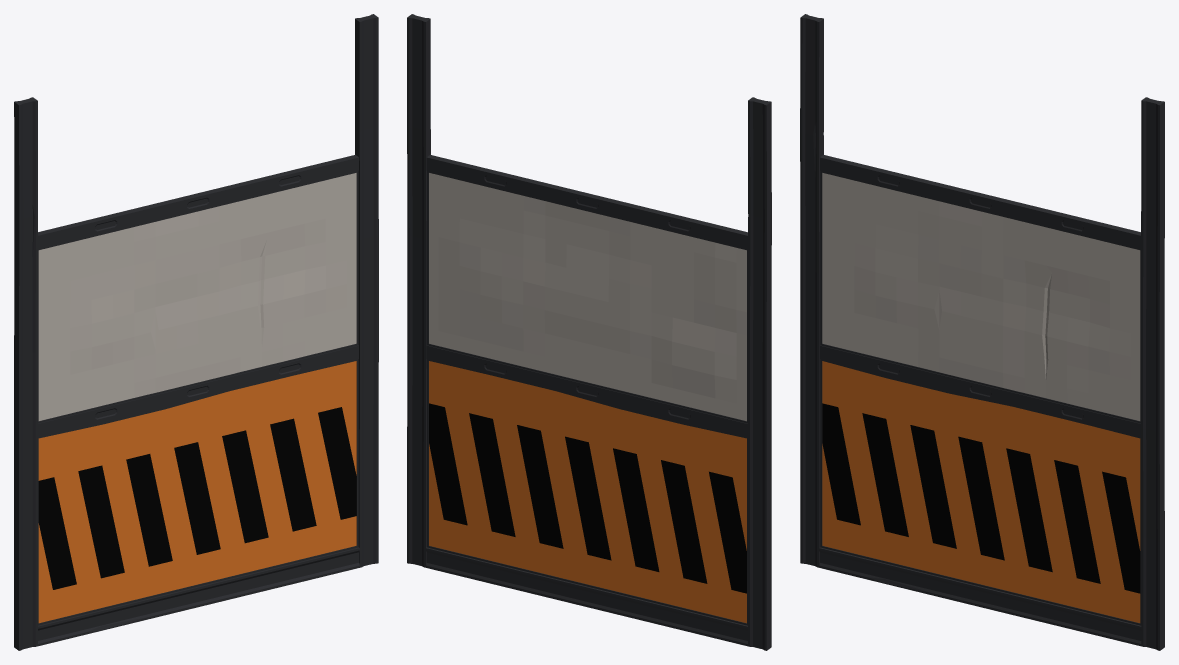
File: SM_Wall_05.gltf
3 renders of one model, left to right at view 1: azimuth 30°, elevation 25°; view 2: azimuth 150°, elevation 25°; view 3: azimuth 330°, elevation 25°, orthographic.
Parts seen in each view (by area): view 1: SM_Wall_05; view 2: SM_Wall_05; view 3: SM_Wall_05.
Boxes of the visible parts, left/top/right/bottom form: SM_Wall_05: left=14, top=14, right=378, bottom=650; SM_Wall_05: left=407, top=14, right=771, bottom=650; SM_Wall_05: left=800, top=14, right=1164, bottom=650.
Size of the model in its own units: 2 by 2.9 by 0.05.
